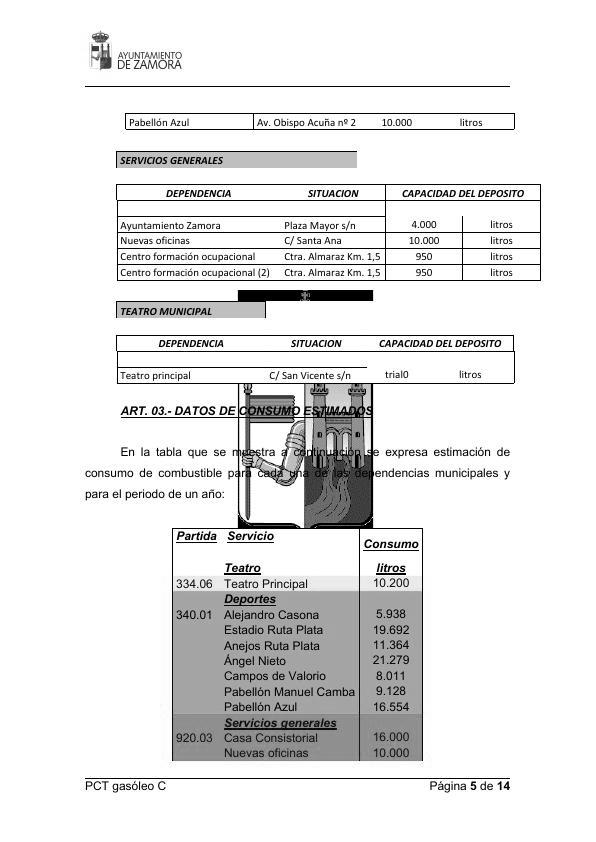table: (170, 527, 426, 766), (115, 183, 543, 282), (117, 336, 515, 382), (122, 111, 519, 133)
text: (83, 443, 514, 507), (120, 403, 375, 420), (119, 152, 237, 167), (119, 303, 215, 320)
